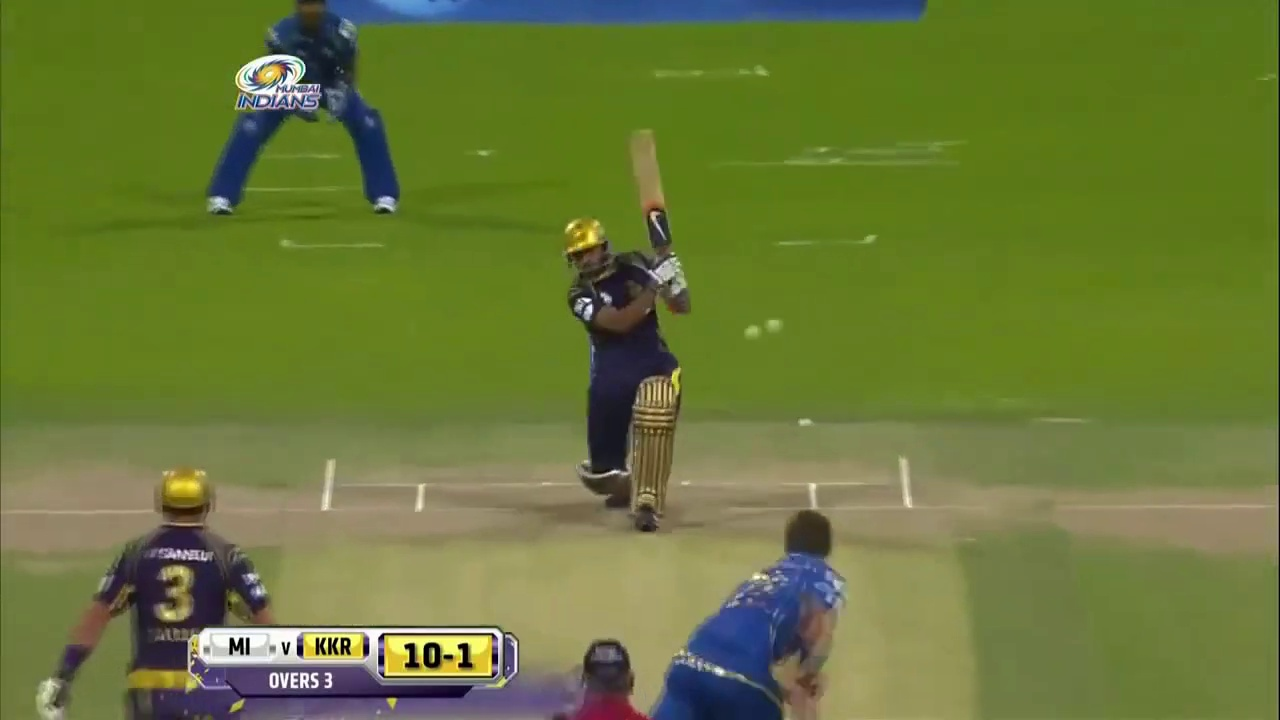bat: (628, 127, 679, 250)
